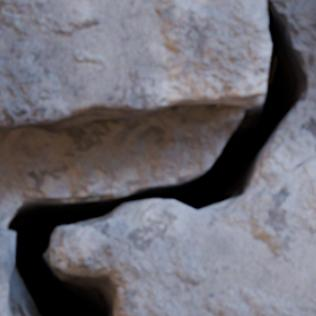brick: (0, 0, 270, 132)
broken_brick: (52, 153, 315, 315), (0, 228, 14, 315)
crack: (2, 0, 313, 315)
